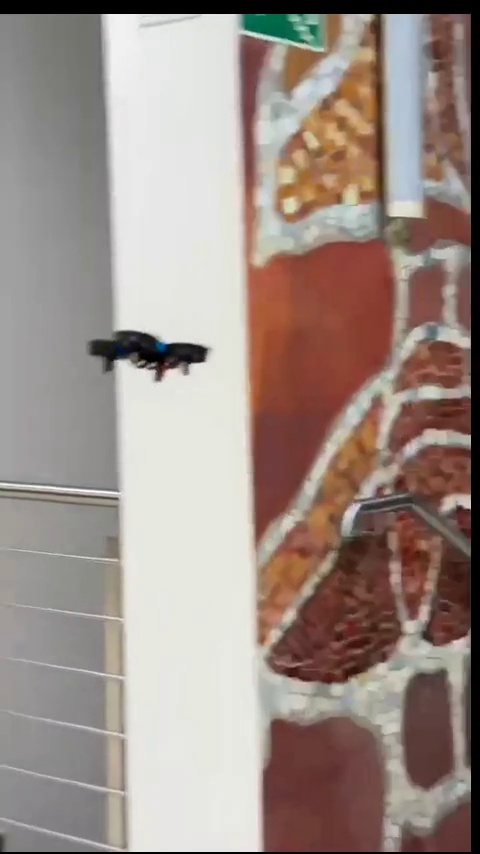drone: (90, 330, 216, 376)
